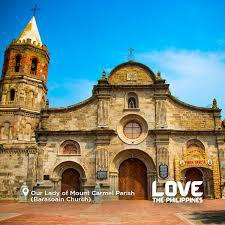barasoain_church_malolos_bulacan: (1, 1, 225, 200)
